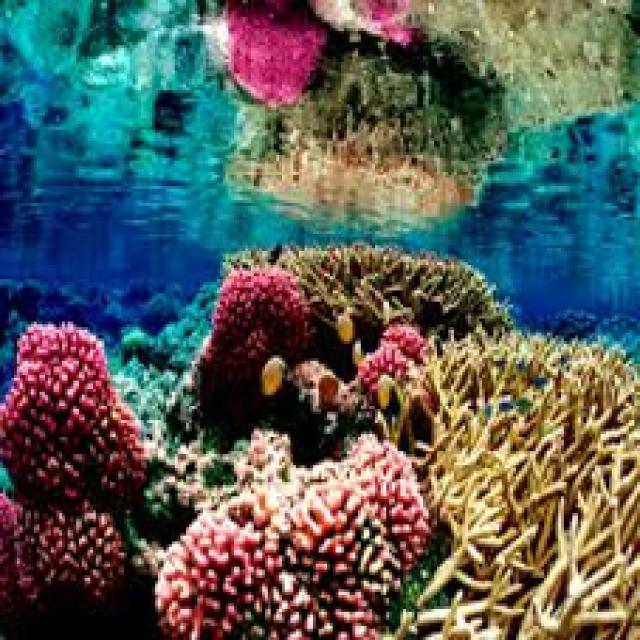Healthy: (393, 331, 638, 638), (156, 438, 415, 638), (1, 322, 139, 494), (280, 246, 511, 337), (1, 494, 125, 610), (204, 269, 308, 384), (359, 328, 427, 393)
